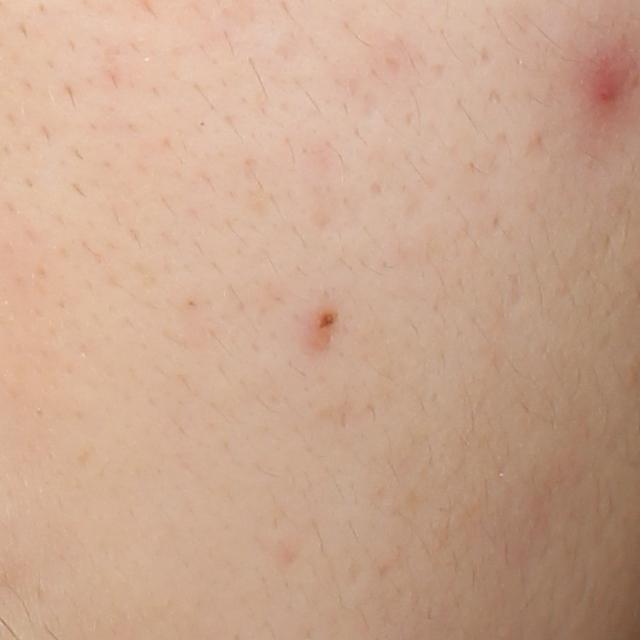papule: (592, 70, 629, 109)
